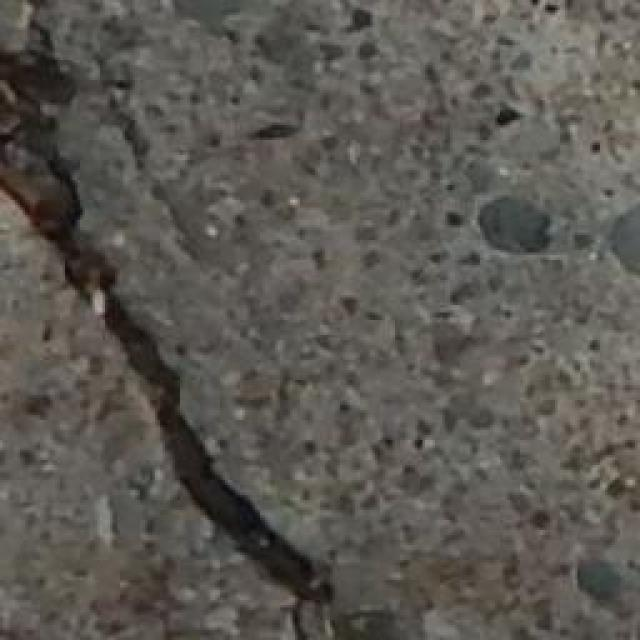concrete-crack: (0, 0, 342, 640)
